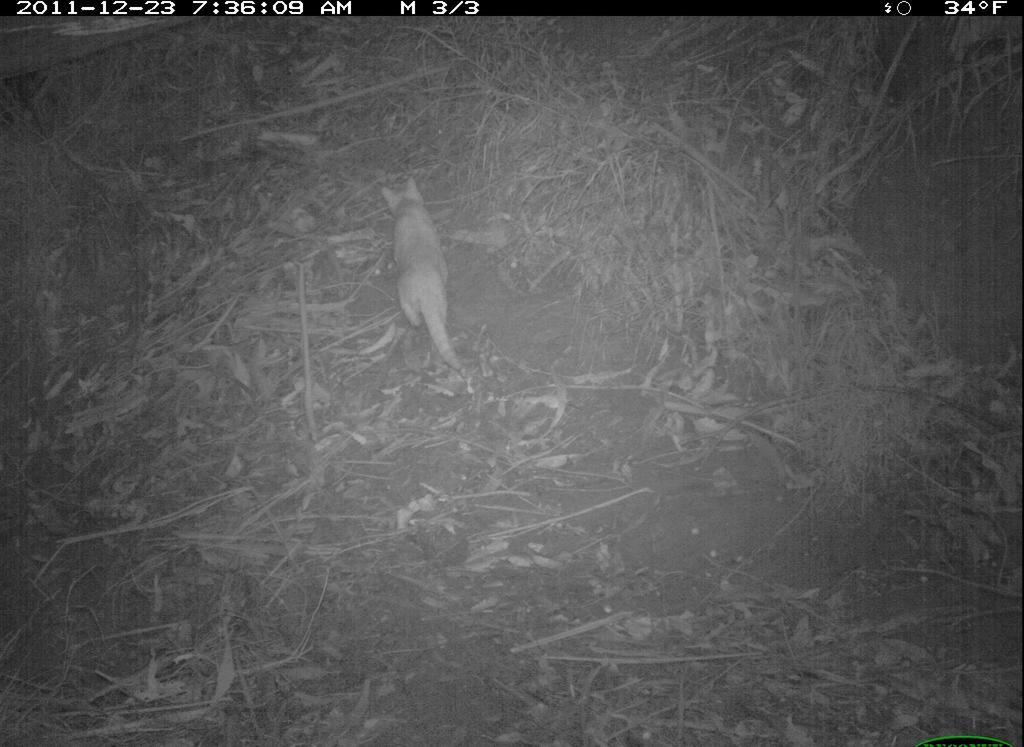cat: (363, 148, 488, 405)
